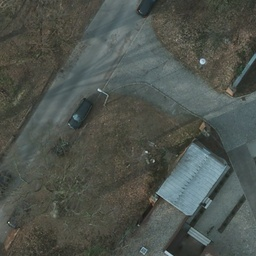car: (66, 98, 90, 132), (7, 201, 34, 230), (0, 171, 17, 205), (139, 0, 159, 18)
